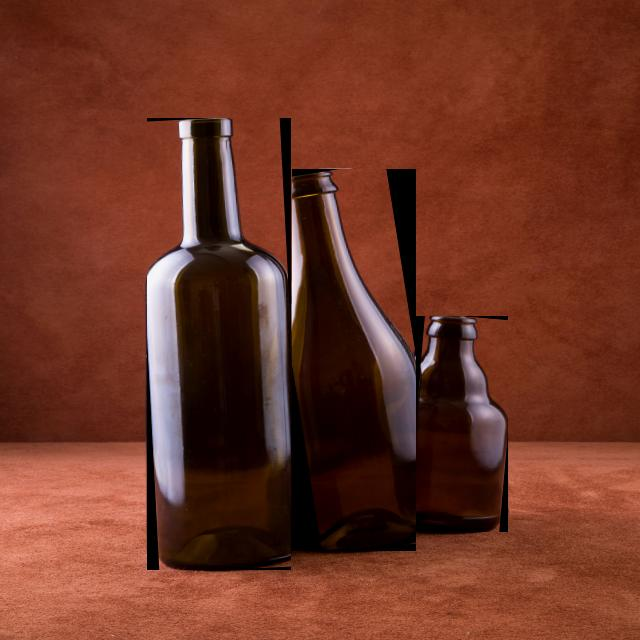Bottle: (147, 119, 291, 569), (293, 169, 416, 550), (416, 317, 508, 532)
